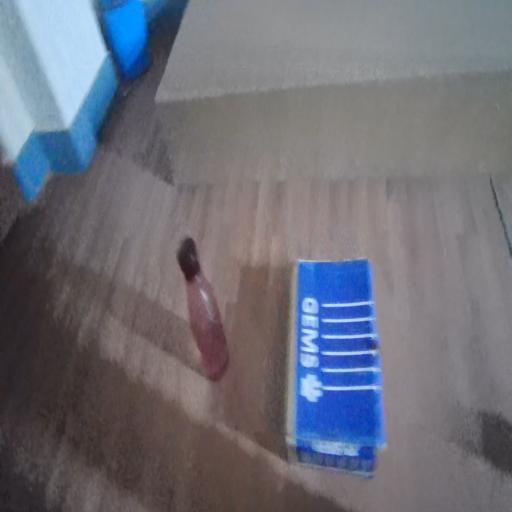Bottle: (168, 227, 235, 380)
